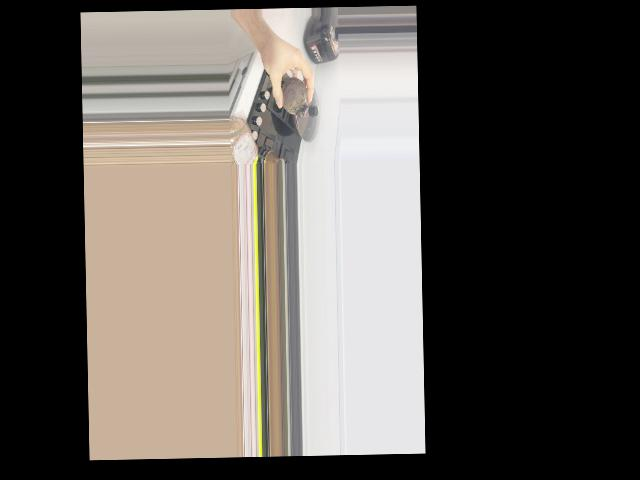beet: (281, 75, 307, 118)
